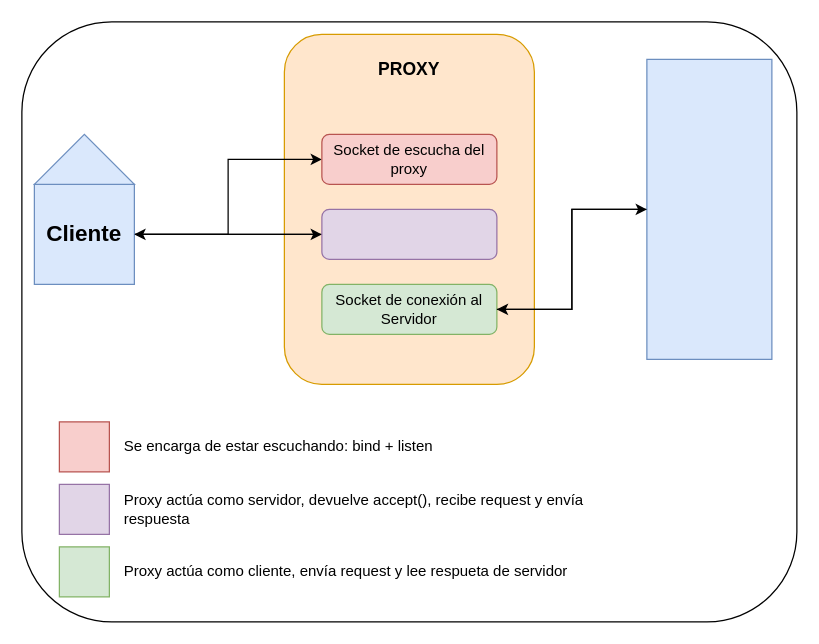
This 819x644 diagram has some shape labels left out. Here are the shapes that lost their labels. From the top down, the box of each, then its label:
(646, 58, 772, 359): Servidor example.com
(321, 208, 497, 259): Socket de conexión al Cliente
